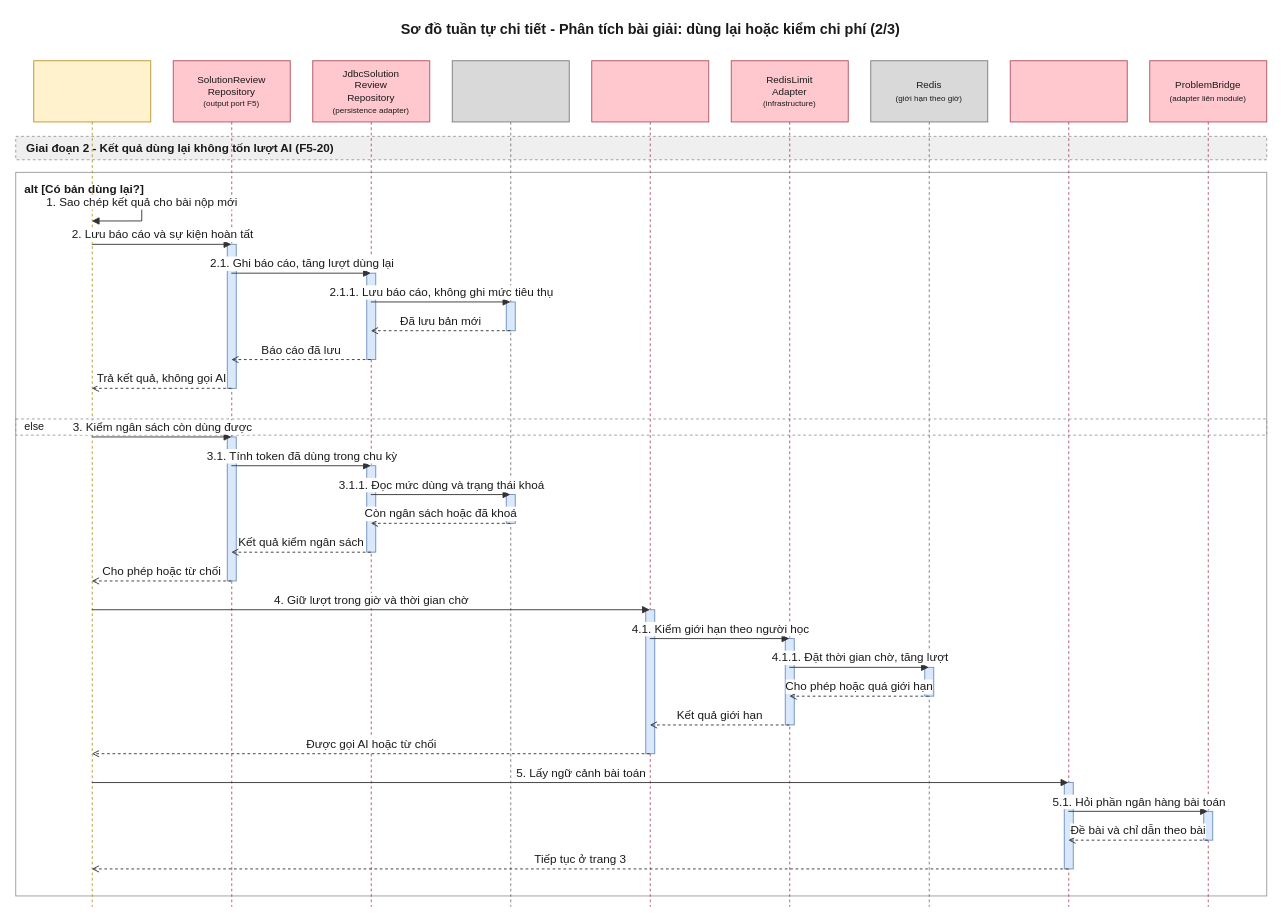
The diagram is 1283 pixels wide and 923 high, and some of its shapes have lost their labels. Each missing label, with the box of its shape:
AiCostGatePort (output port): (591, 60, 709, 907)
GetOrCreate SolutionReview CommandHandler (application command): (33, 60, 151, 907)
PostgreSQL (schema ai): (451, 60, 569, 907)
ProblemContext Port (cổng F2): (1009, 60, 1127, 907)
